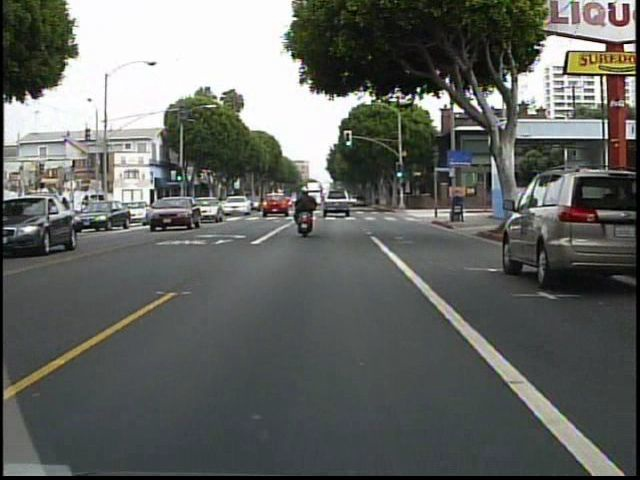person: (291, 183, 322, 237)
